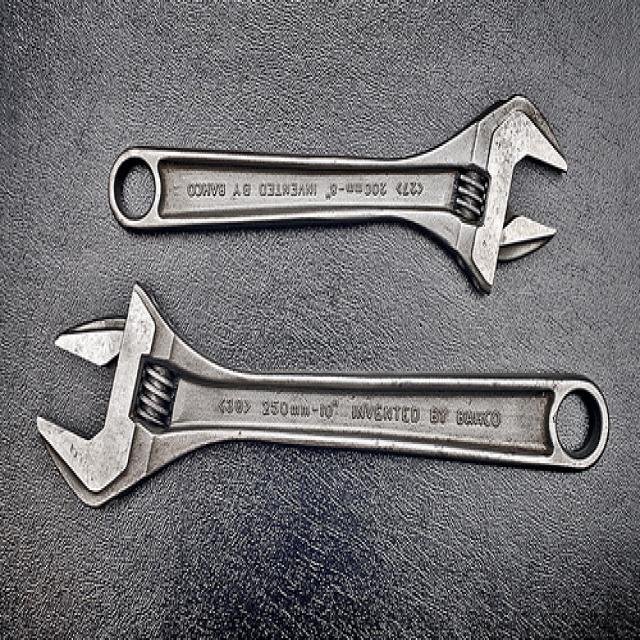wrench: (38, 285, 611, 529), (95, 78, 600, 297)
